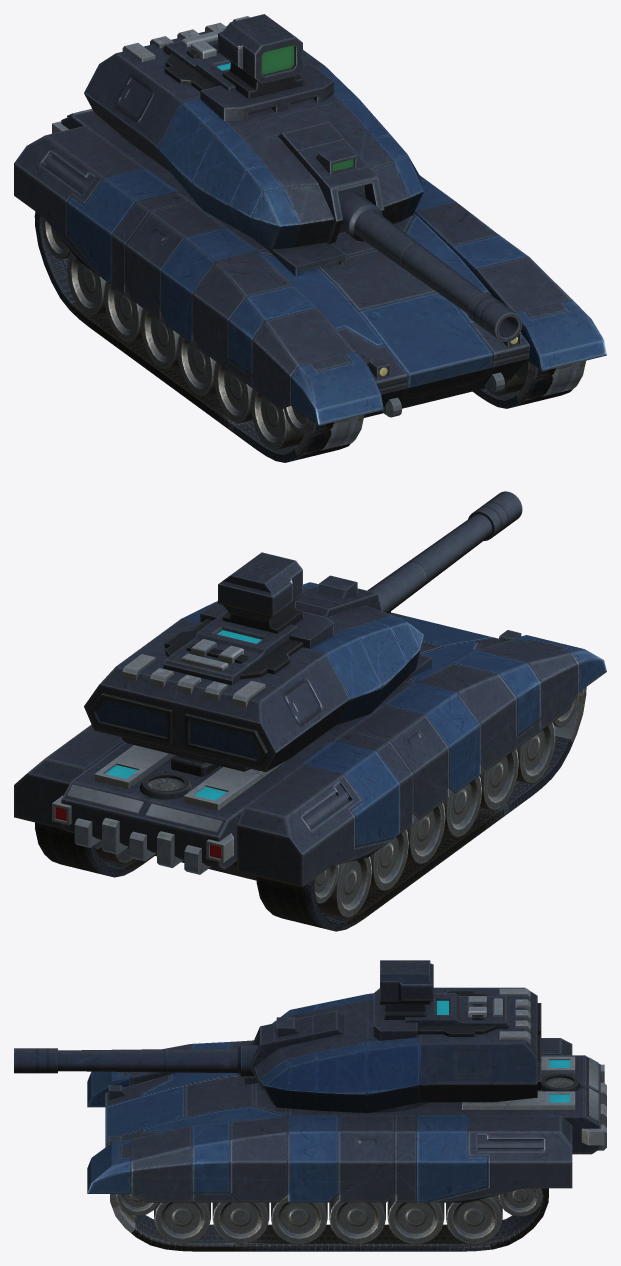
Rendered from Hunter.dae.
3 renders of one model, top to bottom at view 1: azimuth 30°, elevation 25°; view 2: azimuth 150°, elevation 25°; view 3: azimuth 270°, elevation 25°, orthographic. The views are drawn at different scales.
Visible parts, largest first — view 1: Body, Turret, TurretMGun; view 2: Body, Turret, TurretMGun; view 3: Body, Turret, TurretMGun.
Boxes of the visible parts, x1,y1,x2,y2 form: Body: [14, 108, 606, 462]; Turret: [84, 14, 423, 249]; TurretMGun: [339, 191, 522, 341]; Body: [14, 582, 606, 931]; Turret: [84, 552, 423, 772]; TurretMGun: [367, 491, 522, 613]; Body: [87, 1038, 606, 1251]; Turret: [250, 960, 541, 1113]; TurretMGun: [14, 1045, 258, 1076].
Bounding box in the file's own units: 40.32 × 90.24 × 38.78.
